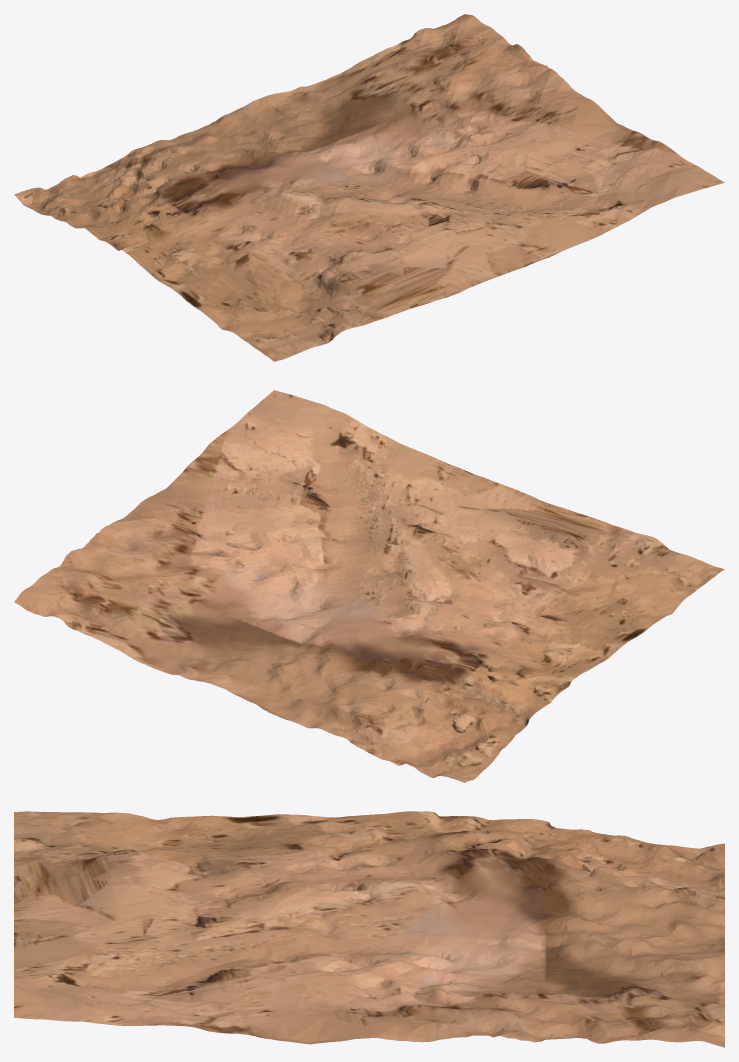
3 views of the same model, one above another, from view 1: azimuth 30°, elevation 25°; view 2: azimuth 150°, elevation 25°; view 3: azimuth 270°, elevation 25° (orthographic). The views are drawn at different scales.
Bounding box in the file's own units: 4.18 × 0.8592 × 4.18.
2 materials, 2 textured.
